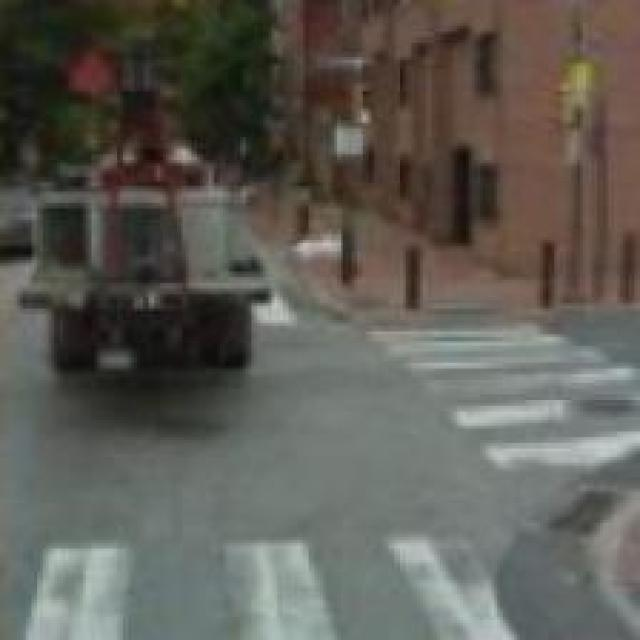zebra: (26, 515, 545, 640), (360, 312, 637, 506)
